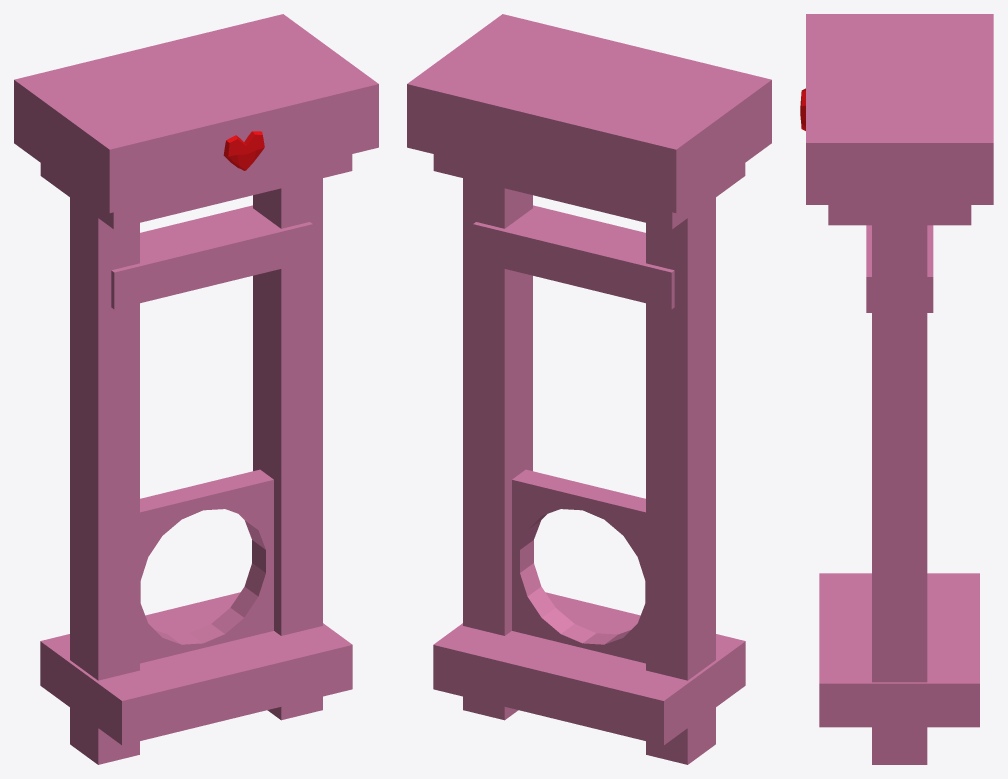
File: Guillotine_base.glb
3 renders of one model, left to right at view 1: azimuth 30°, elevation 25°; view 2: azimuth 150°, elevation 25°; view 3: azimuth 270°, elevation 25°, orthographic.
Visible parts, largest first — view 1: 立方体.002, 立方体, 立方体.004, 立方体.003, 立方体.005, 立方体.001, 立方体.007; view 2: 立方体.002, 立方体, 立方体.004, 立方体.003, 立方体.005, 立方体.001; view 3: 立方体, 立方体.002, 立方体.004, 立方体.001, 立方体.003.
Boxes of the visible parts, left/top/right/bottom form: 立方体.002: left=70, top=178, right=322, bottom=764; 立方体: left=14, top=14, right=378, bottom=212; 立方体.004: left=40, top=592, right=352, bottom=745; 立方体.003: left=111, top=205, right=312, bottom=309; 立方体.005: left=140, top=469, right=273, bottom=663; 立方体.001: left=40, top=154, right=352, bottom=229; 立方体.007: left=223, top=131, right=264, bottom=170; 立方体.002: left=463, top=178, right=715, bottom=764; 立方体: left=407, top=14, right=771, bottom=212; 立方体.004: left=433, top=592, right=745, bottom=745; 立方体.003: left=473, top=205, right=674, bottom=309; 立方体.005: left=512, top=469, right=645, bottom=663; 立方体.001: left=433, top=154, right=745, bottom=229; 立方体: left=806, top=14, right=993, bottom=204; 立方体.002: left=872, top=225, right=927, bottom=764; 立方体.004: left=819, top=573, right=979, bottom=727; 立方体.001: left=828, top=205, right=971, bottom=225; 立方体.003: left=866, top=225, right=933, bottom=312.
Size of the model in its own units: 1.79 by 4.1 by 1.13.
